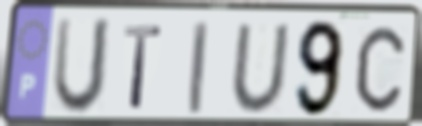9: (293, 17, 349, 119)
C: (354, 23, 407, 115)
I: (187, 19, 210, 118)
T: (121, 23, 164, 113)
U: (49, 15, 115, 119), (228, 21, 292, 116)
